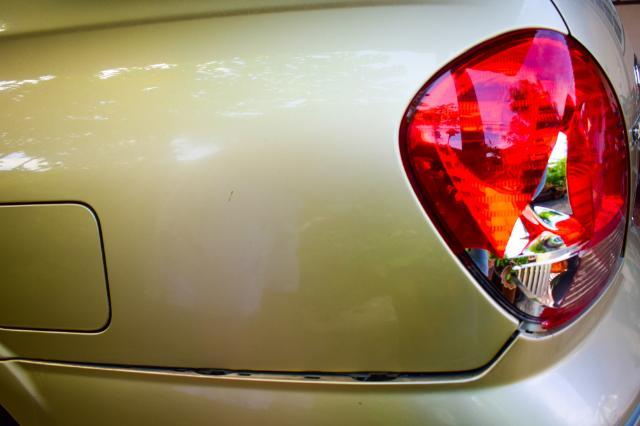lamp broken: (399, 29, 629, 336)
